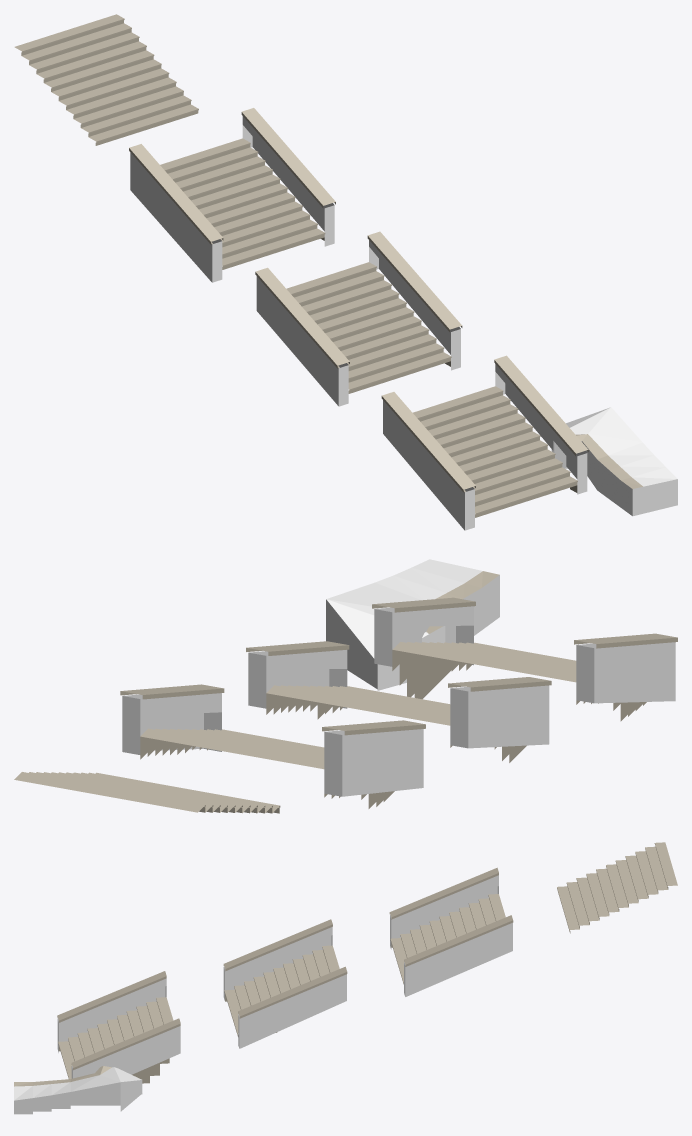
Rendered from SM_BM_BC_Works_3_2.glb.
3 views of the same model, one above another, from view 1: azimuth 30°, elevation 25°; view 2: azimuth 150°, elevation 25°; view 3: azimuth 270°, elevation 25° (orthographic). The views are drawn at different scales.
Visible parts, largest first — view 1: SM_BM_BC_Works_3_2; view 2: SM_BM_BC_Works_3_2; view 3: SM_BM_BC_Works_3_2.
Part boxes in pixels (bbox=[...]): SM_BM_BC_Works_3_2: bbox=[14, 14, 677, 530]; SM_BM_BC_Works_3_2: bbox=[14, 559, 677, 813]; SM_BM_BC_Works_3_2: bbox=[14, 842, 677, 1114].
Size of the model in its own units: 9.46 by 7.85 by 26.42.
